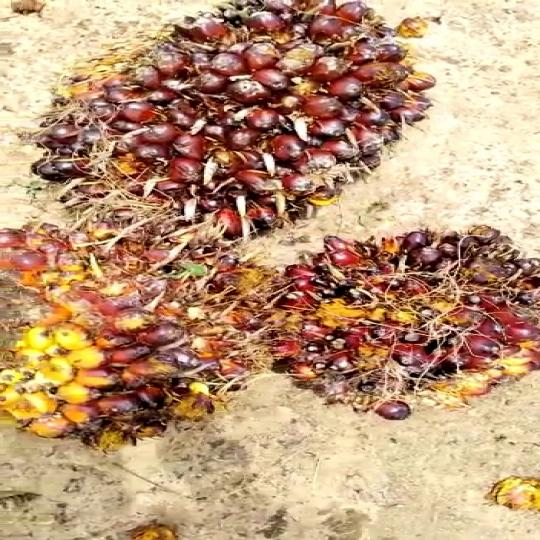masak: (40, 0, 437, 255), (0, 217, 276, 450), (239, 218, 540, 424)
